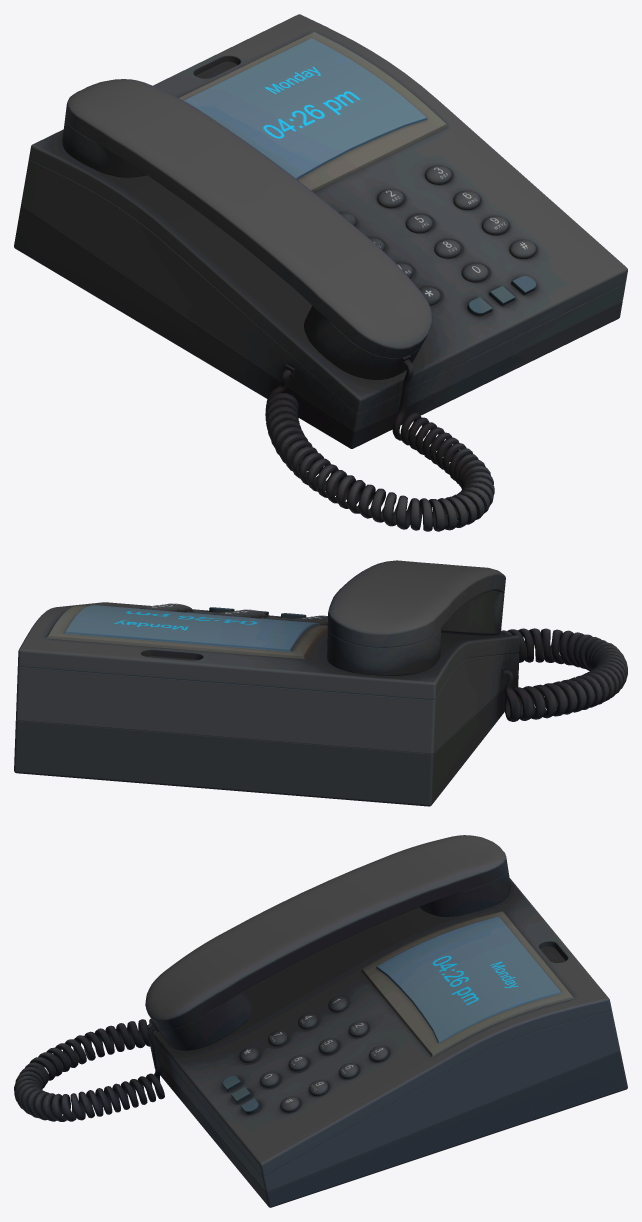
File: phone1.fbx
The picture shows the model from 3 angles, top to bottom: view 1: azimuth 30°, elevation 25°; view 2: azimuth 150°, elevation 25°; view 3: azimuth 270°, elevation 25°; orthographic projection. The views are drawn at different scales.
Parts seen in each view (by area): view 1: node_id81; view 2: node_id81; view 3: node_id81.
Boxes of the visible parts, x1,y1,x2,y2 form: node_id81: (14, 14, 627, 531); node_id81: (14, 560, 627, 806); node_id81: (14, 835, 627, 1207).
Size of the model in its own units: 0.5427 by 0.2912 by 0.7293.
1 material, 1 textured.
